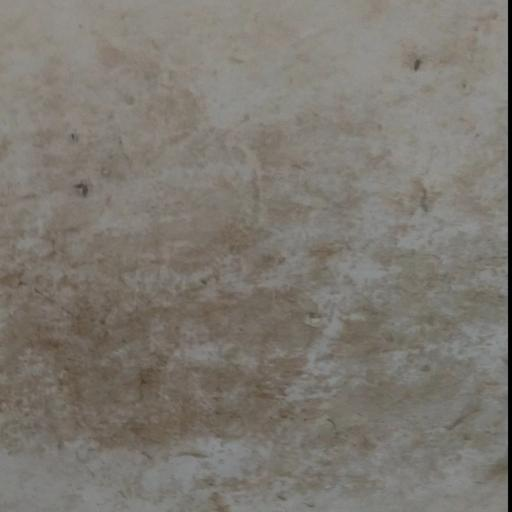stain: (0, 43, 512, 512)
